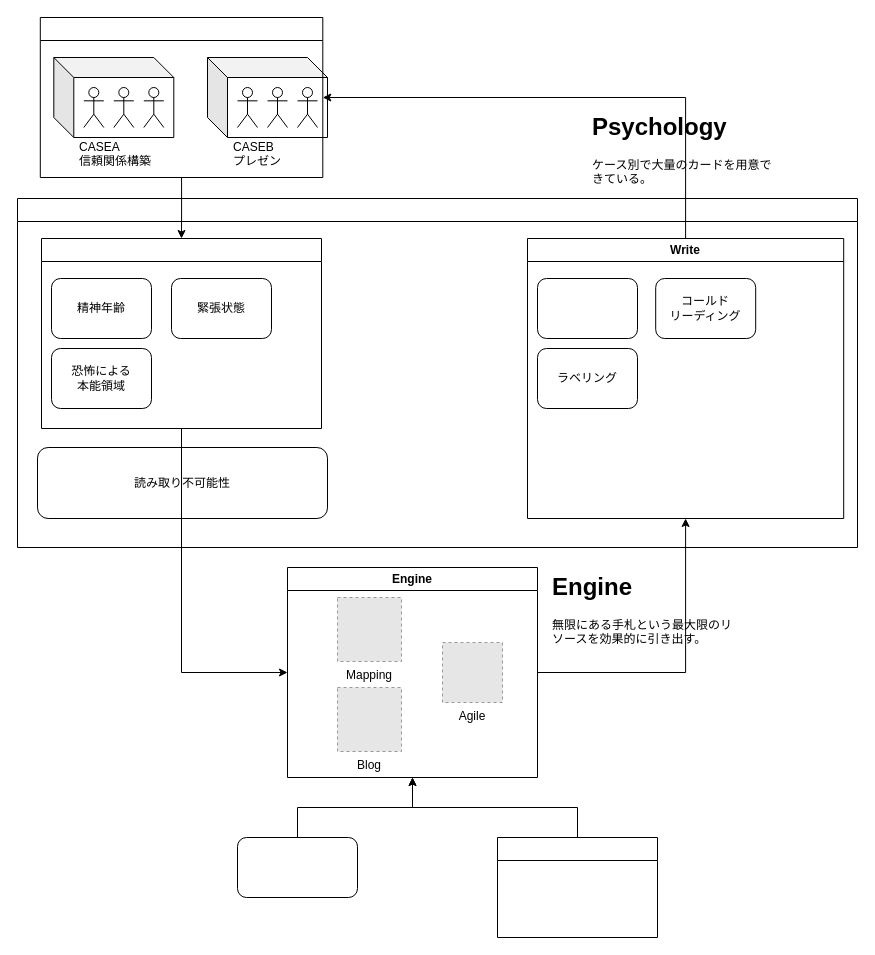
The diagram is 875 pixels wide and 955 high, and some of its shapes have lost their labels. Grey dashed boxes stand in for pictures. The box of each missing label's shape, as (x1, y1, x2, y2) in pixels:
Brand: (236, 836, 358, 898)
Engineer: (496, 836, 658, 938)
Psychology: (16, 198, 858, 548)
Read State: (40, 238, 322, 428)
ケース別対応: (39, 16, 323, 178)
ミラーリング: (536, 278, 638, 338)
